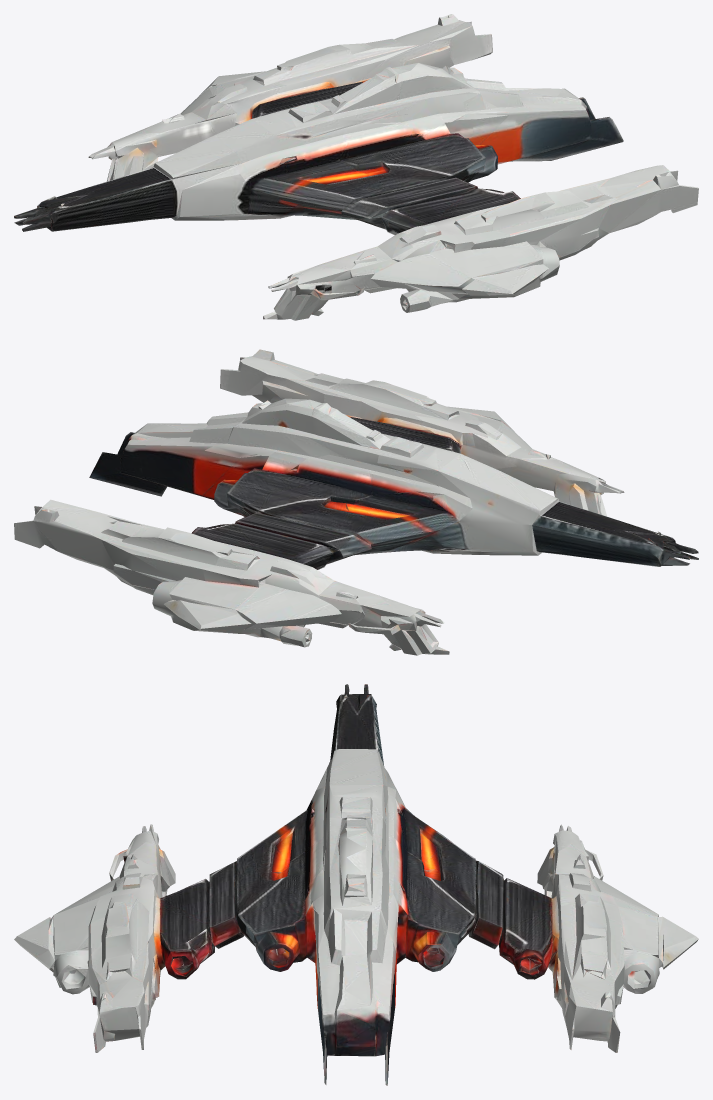
File: skill-sentry.glb
3 views of the same model, one above another, from view 1: azimuth 30°, elevation 25°; view 2: azimuth 150°, elevation 25°; view 3: azimuth 270°, elevation 25° (orthographic). The views are drawn at different scales.
Size of the model in its own units: 1.9 by 0.443 by 1.64.
Materials: 1 (1 with a texture image).
